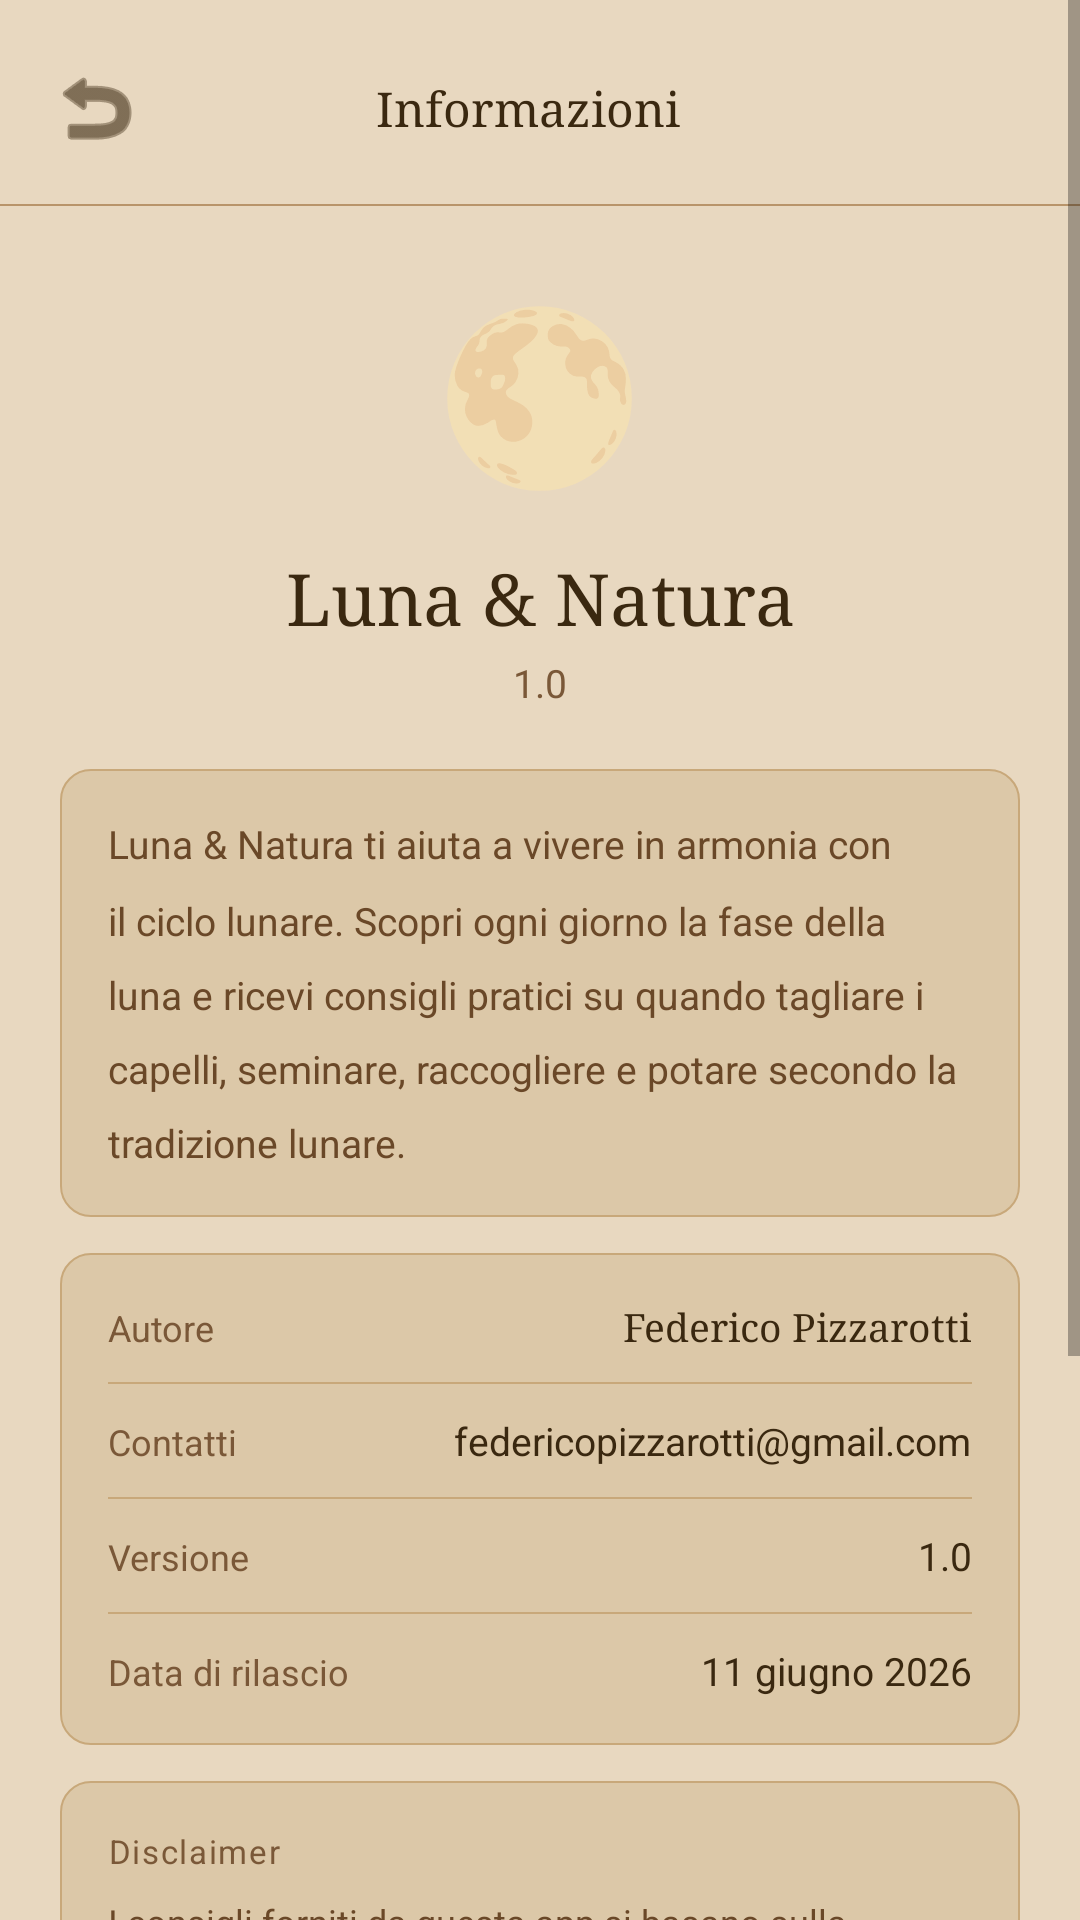

Named icons in this screenshot (1080*1920) and their bounding boxes, [x1, y1, x2, y2]:
revert: [63, 77, 132, 140]
